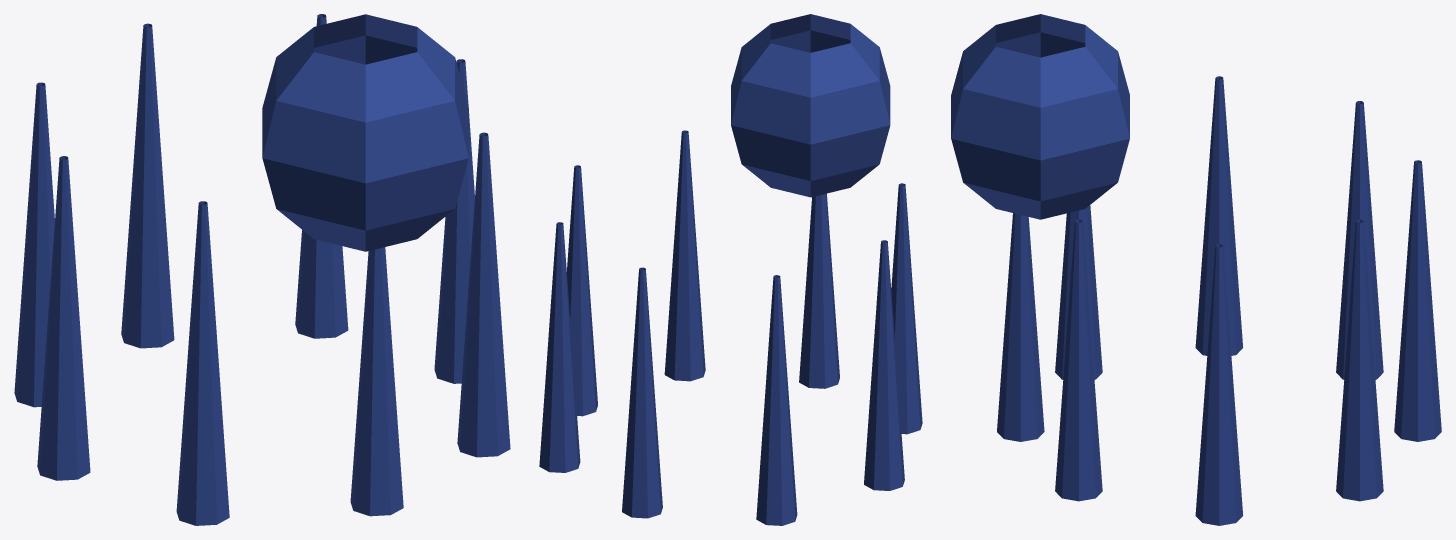
Rendered from deep_kraken.obj.
The picture shows the model from 3 angles, left to right: view 1: azimuth 30°, elevation 25°; view 2: azimuth 150°, elevation 25°; view 3: azimuth 270°, elevation 25°; orthographic projection. The views are drawn at different scales.
Bounding box in the file's own units: 2.24 × 2.2 × 2.47.
